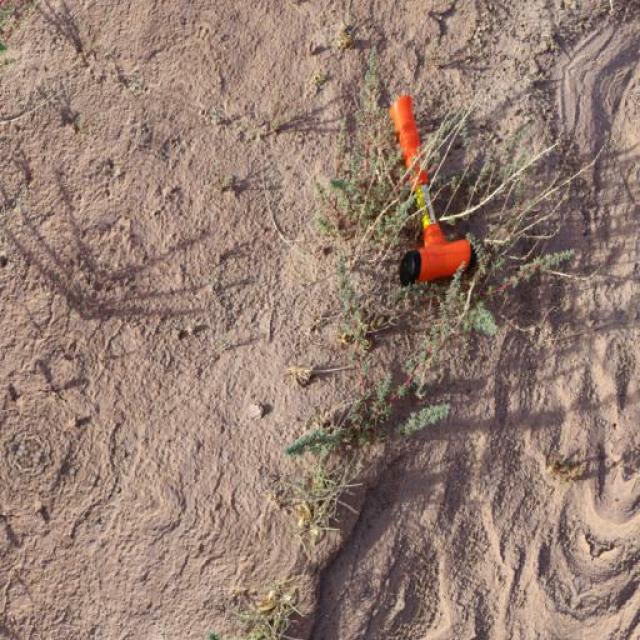mallet: (389, 92, 476, 286)
